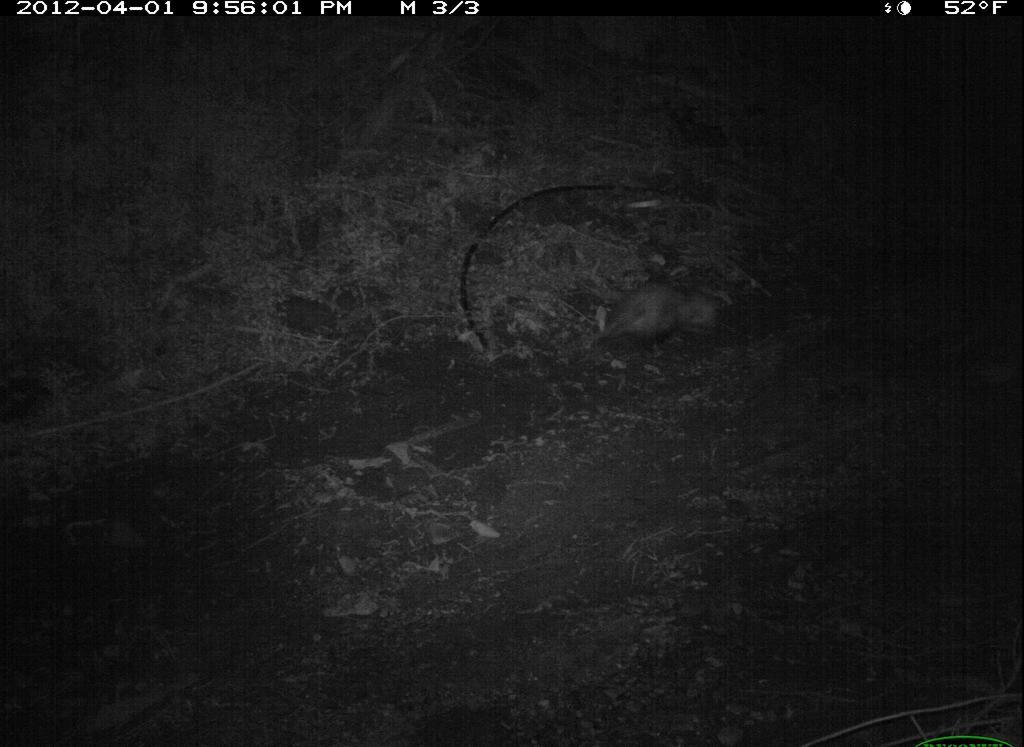opossum: (582, 266, 737, 368)
